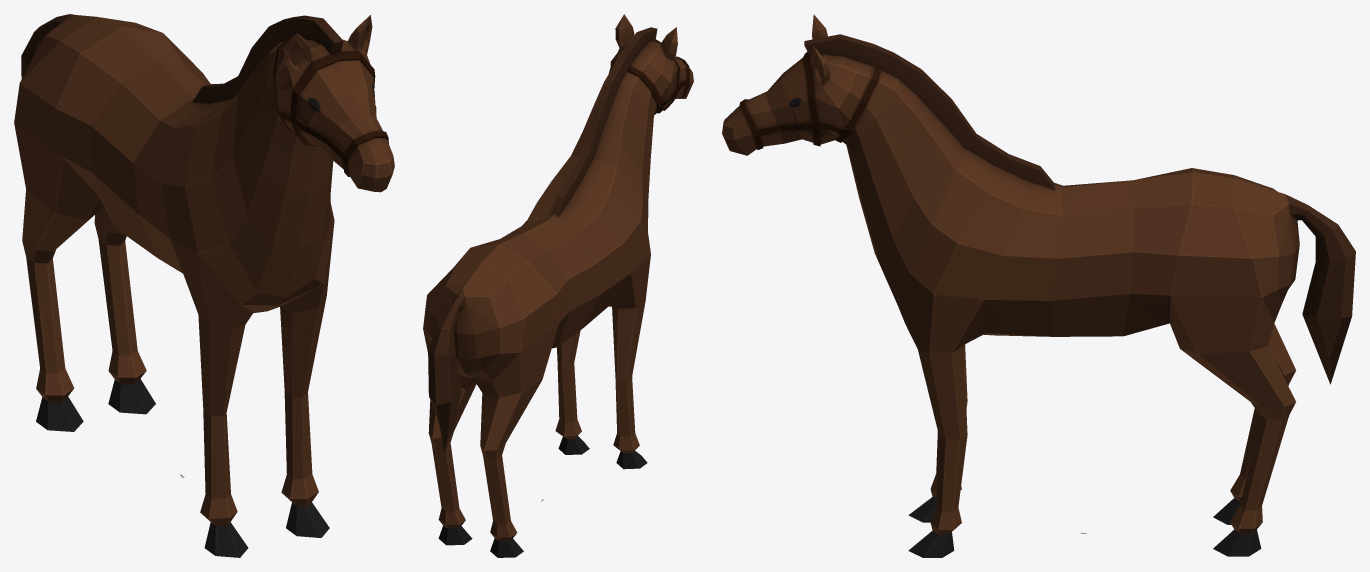
Rendered from horse.glb.
The picture shows the model from 3 angles, left to right: view 1: azimuth 30°, elevation 25°; view 2: azimuth 150°, elevation 25°; view 3: azimuth 270°, elevation 25°; orthographic projection. The views are drawn at different scales.
Visible parts, largest first — view 1: Horse_Mesh; view 2: Horse_Mesh; view 3: Horse_Mesh.
Part boxes in pixels (x1,y1,x2,y2): Horse_Mesh: (14,14,394,557); Horse_Mesh: (423,14,693,557); Horse_Mesh: (722,14,1355,557).
Size of the model in its own units: 0.4548 by 1.67 by 1.91.
Materials: 8 (1 with a texture image).
